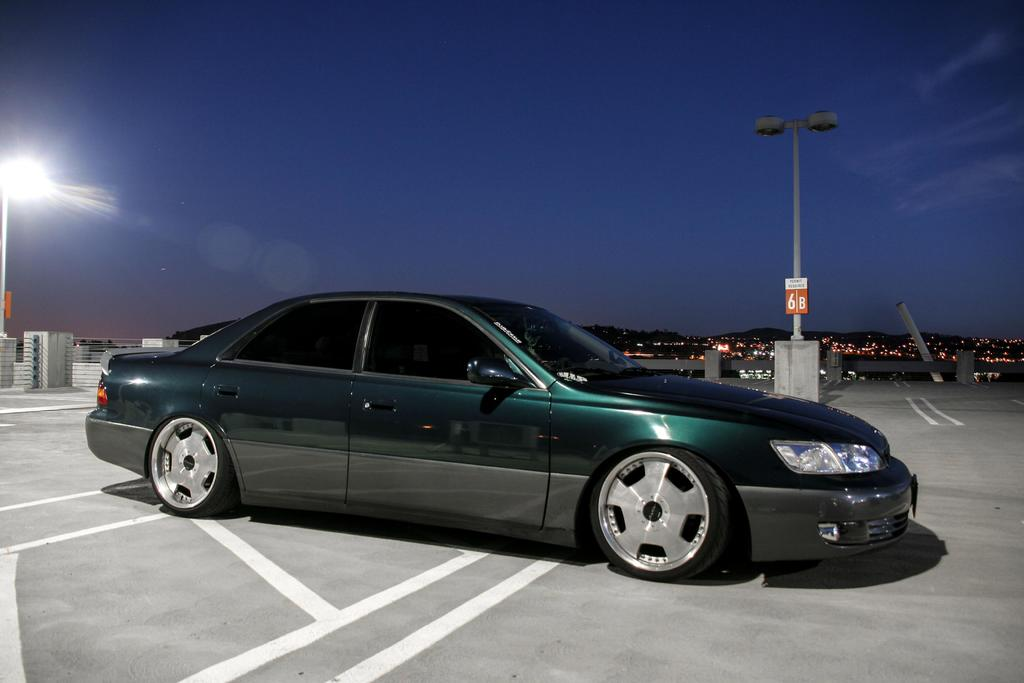Car: (78, 283, 922, 583)
